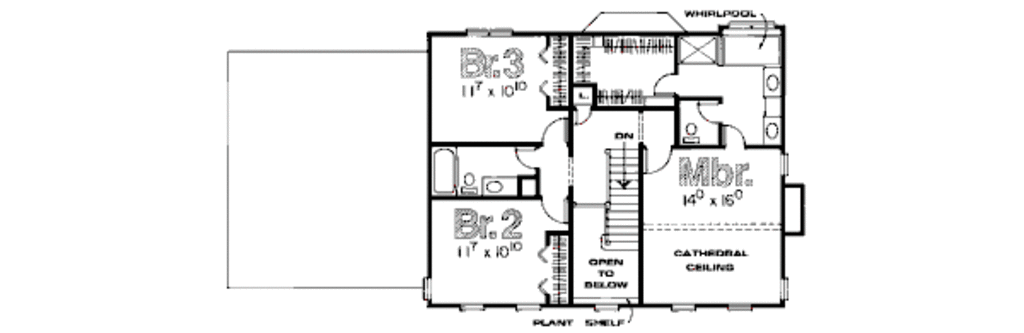door: (536, 111, 573, 143), (642, 144, 674, 176), (539, 196, 572, 227), (691, 100, 723, 131), (512, 143, 543, 171), (650, 70, 679, 95), (723, 124, 747, 153)
large_sink: (679, 121, 703, 148), (461, 169, 480, 194)
small_sink: (760, 66, 786, 144)
stairs: (599, 144, 650, 255)
tub: (723, 36, 778, 66), (428, 143, 459, 195)
window: (461, 25, 515, 43), (417, 270, 435, 305), (510, 298, 546, 313), (723, 299, 753, 313), (456, 303, 486, 316), (589, 298, 619, 311), (666, 302, 699, 312)
